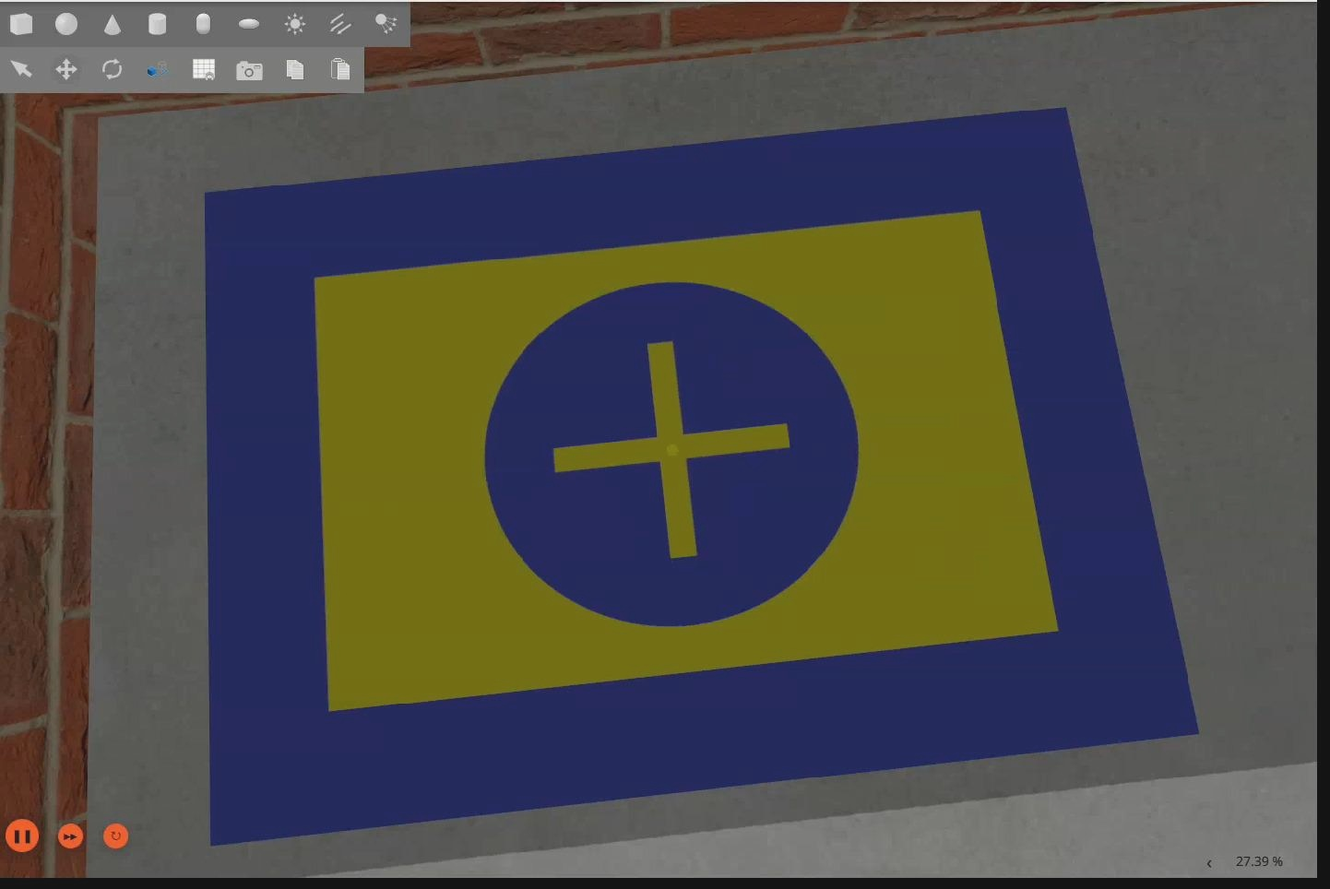large_base: (200, 113, 1205, 857)
